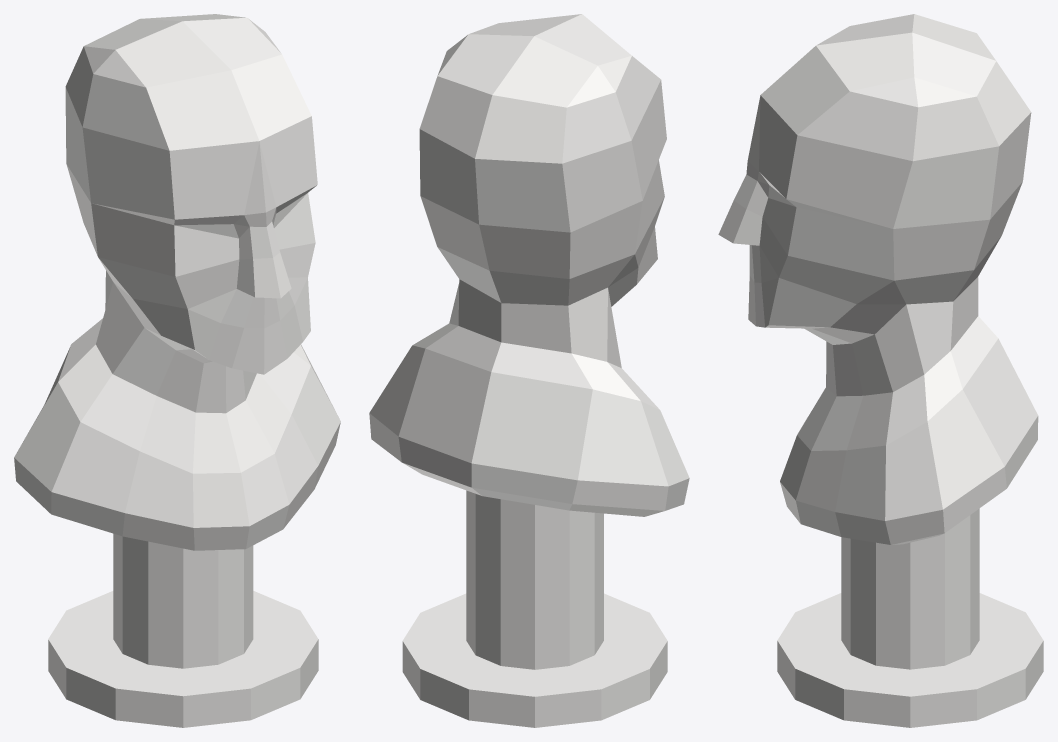
Rendered from Bust_1.fbx.
3 renders of one model, left to right at view 1: azimuth 30°, elevation 25°; view 2: azimuth 150°, elevation 25°; view 3: azimuth 270°, elevation 25°, orthographic.
Parts seen in each view (by area): view 1: Bust_1; view 2: Bust_1; view 3: Bust_1.
Boxes of the visible parts, <box> form: Bust_1: <box>14,14,340,727</box>; Bust_1: <box>369,14,689,727</box>; Bust_1: <box>718,14,1043,727</box>.
Size of the model in its own units: 31.81 by 29.79 by 64.61.
